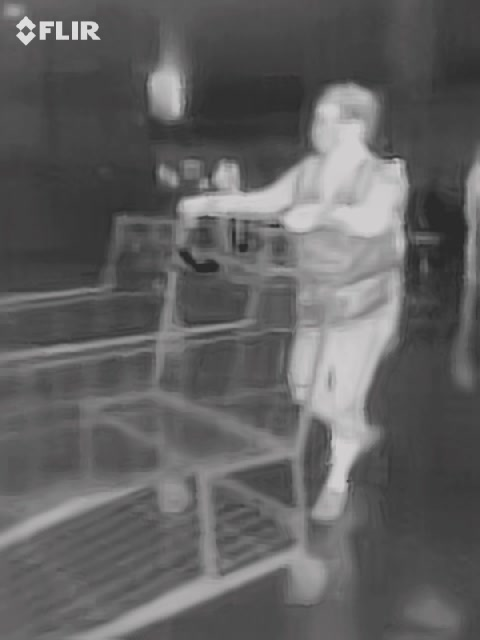head: (308, 81, 381, 154)
